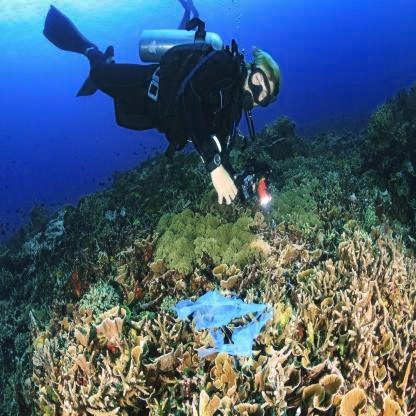pbag: (168, 284, 275, 365)
